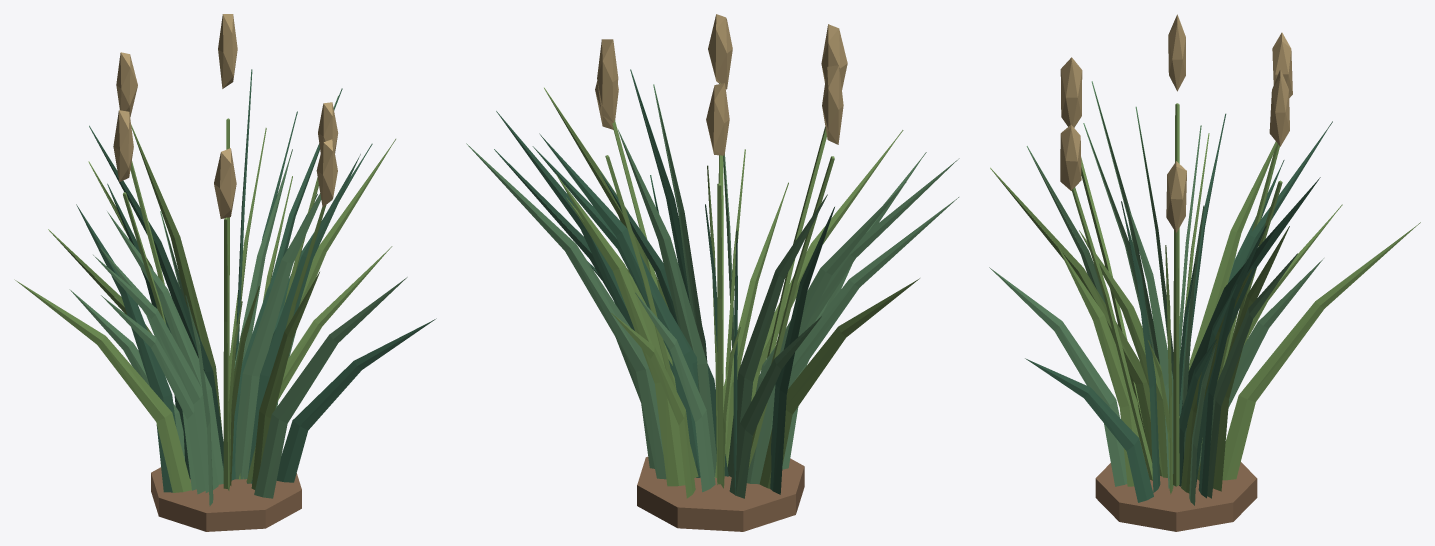
Rendered from PLANT_02.obj.
3 views of the same model, side by side, from view 1: azimuth 30°, elevation 25°; view 2: azimuth 150°, elevation 25°; view 3: azimuth 270°, elevation 25° (orthographic). The views are drawn at different scales.
Visible parts, largest first — view 1: blades, seed_heads, soil, seed_stems; view 2: blades, soil, seed_stems, seed_heads; view 3: blades, seed_heads, soil, seed_stems.
Boxes of the visible parts, x1,y1,x2,y2 form: blades: [14, 69, 436, 506]; seed_heads: [113, 14, 338, 218]; soil: [151, 467, 301, 531]; seed_stems: [123, 118, 326, 488]; blades: [466, 69, 959, 498]; soil: [637, 456, 804, 531]; seed_stems: [605, 83, 834, 484]; seed_heads: [595, 14, 847, 155]; blades: [989, 81, 1420, 505]; seed_heads: [1060, 14, 1292, 232]; soil: [1095, 462, 1257, 531]; seed_stems: [1071, 103, 1282, 486].
Size of the model in its own units: 1.65 by 1.85 by 1.61.
